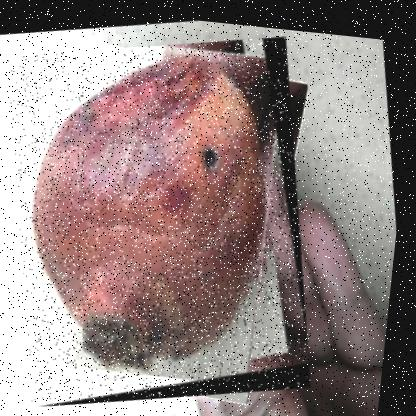pomegranate_rotten: (0, 5, 348, 415)
